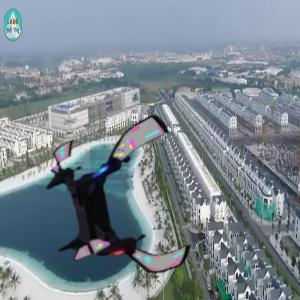drone: (37, 121, 209, 293)
